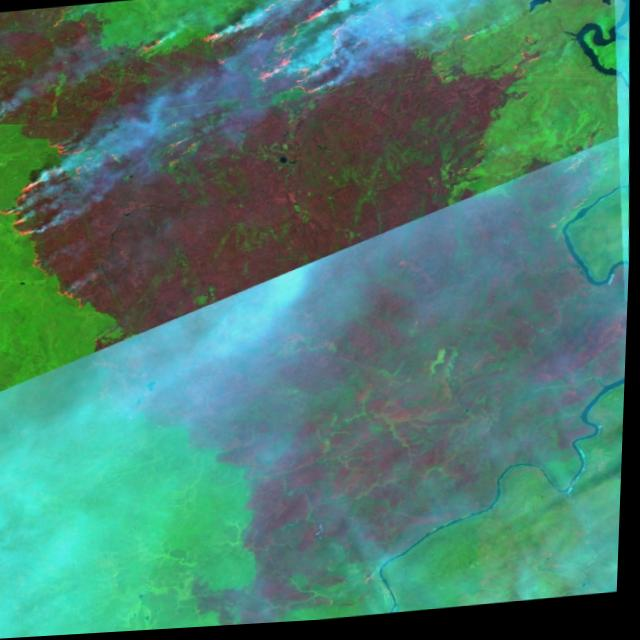fire: (133, 0, 550, 112), (0, 134, 108, 315)
